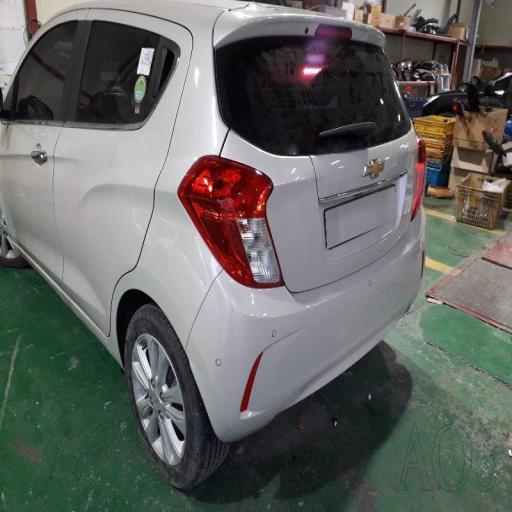scratch: (178, 80, 441, 398)
